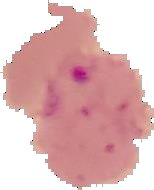parasitized: (38, 48, 149, 178)
